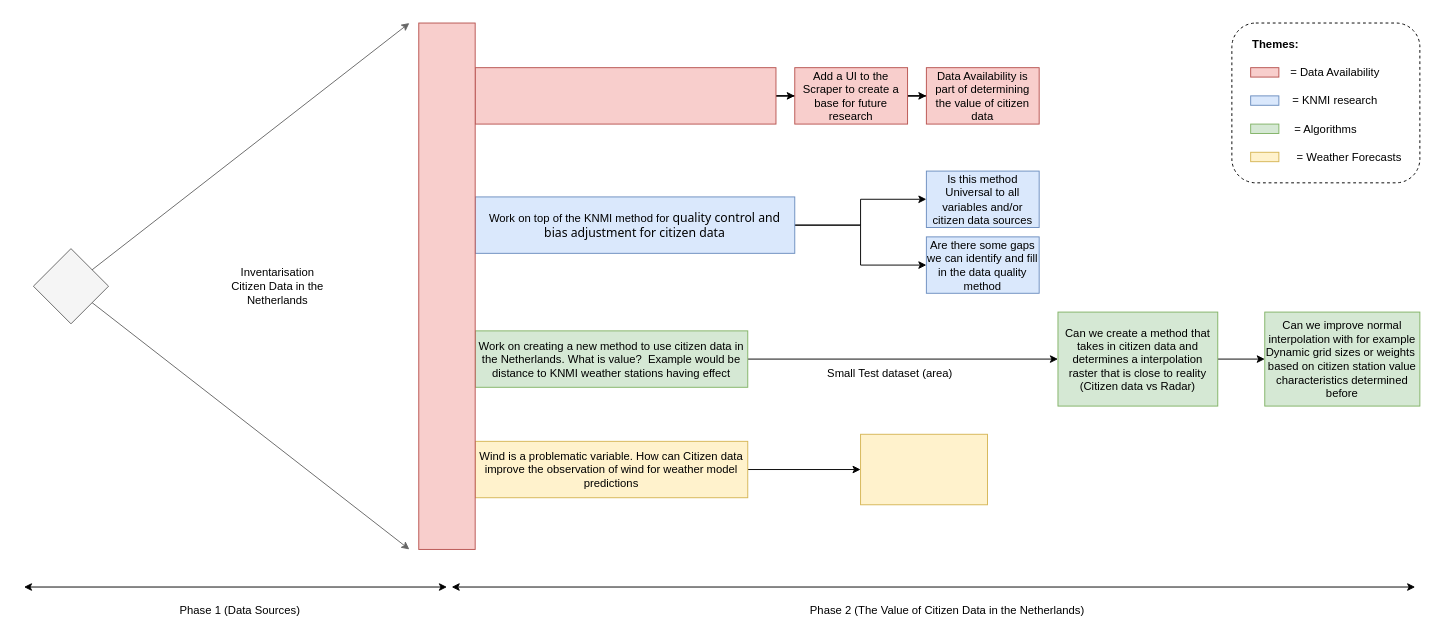
Some shapes in this 1440 by 641 pixel diagram are drawn without their labels. The shapes that lost their labels are listed below. From the top down, each one's box as (x1, y1, x2, y2) in pixels, then its label:
(474, 67, 776, 124): Create a scraping method to assemble citizen data (Create Bot for web scraping)
(32, 248, 109, 324): START
(418, 22, 475, 549): Data overview of citizen data. Results would be table with all sources of data.
(860, 433, 987, 505): Needs more information about how wind is effecting weather predications
